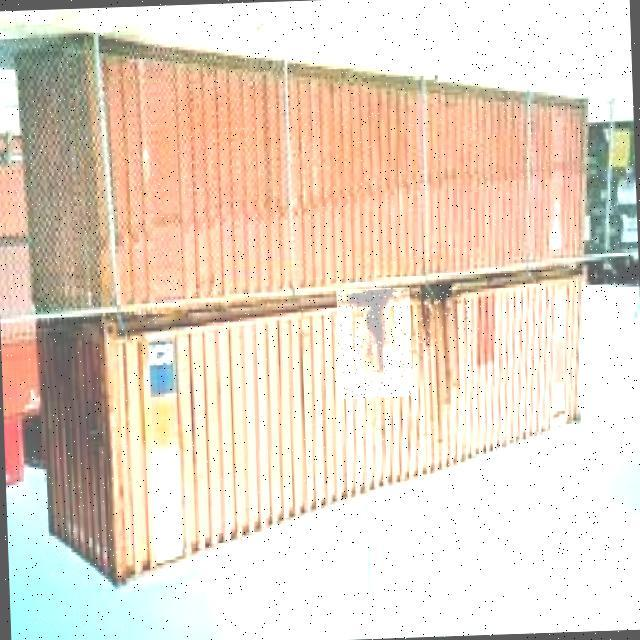Deframe: (336, 287, 413, 398), (413, 285, 472, 350)
